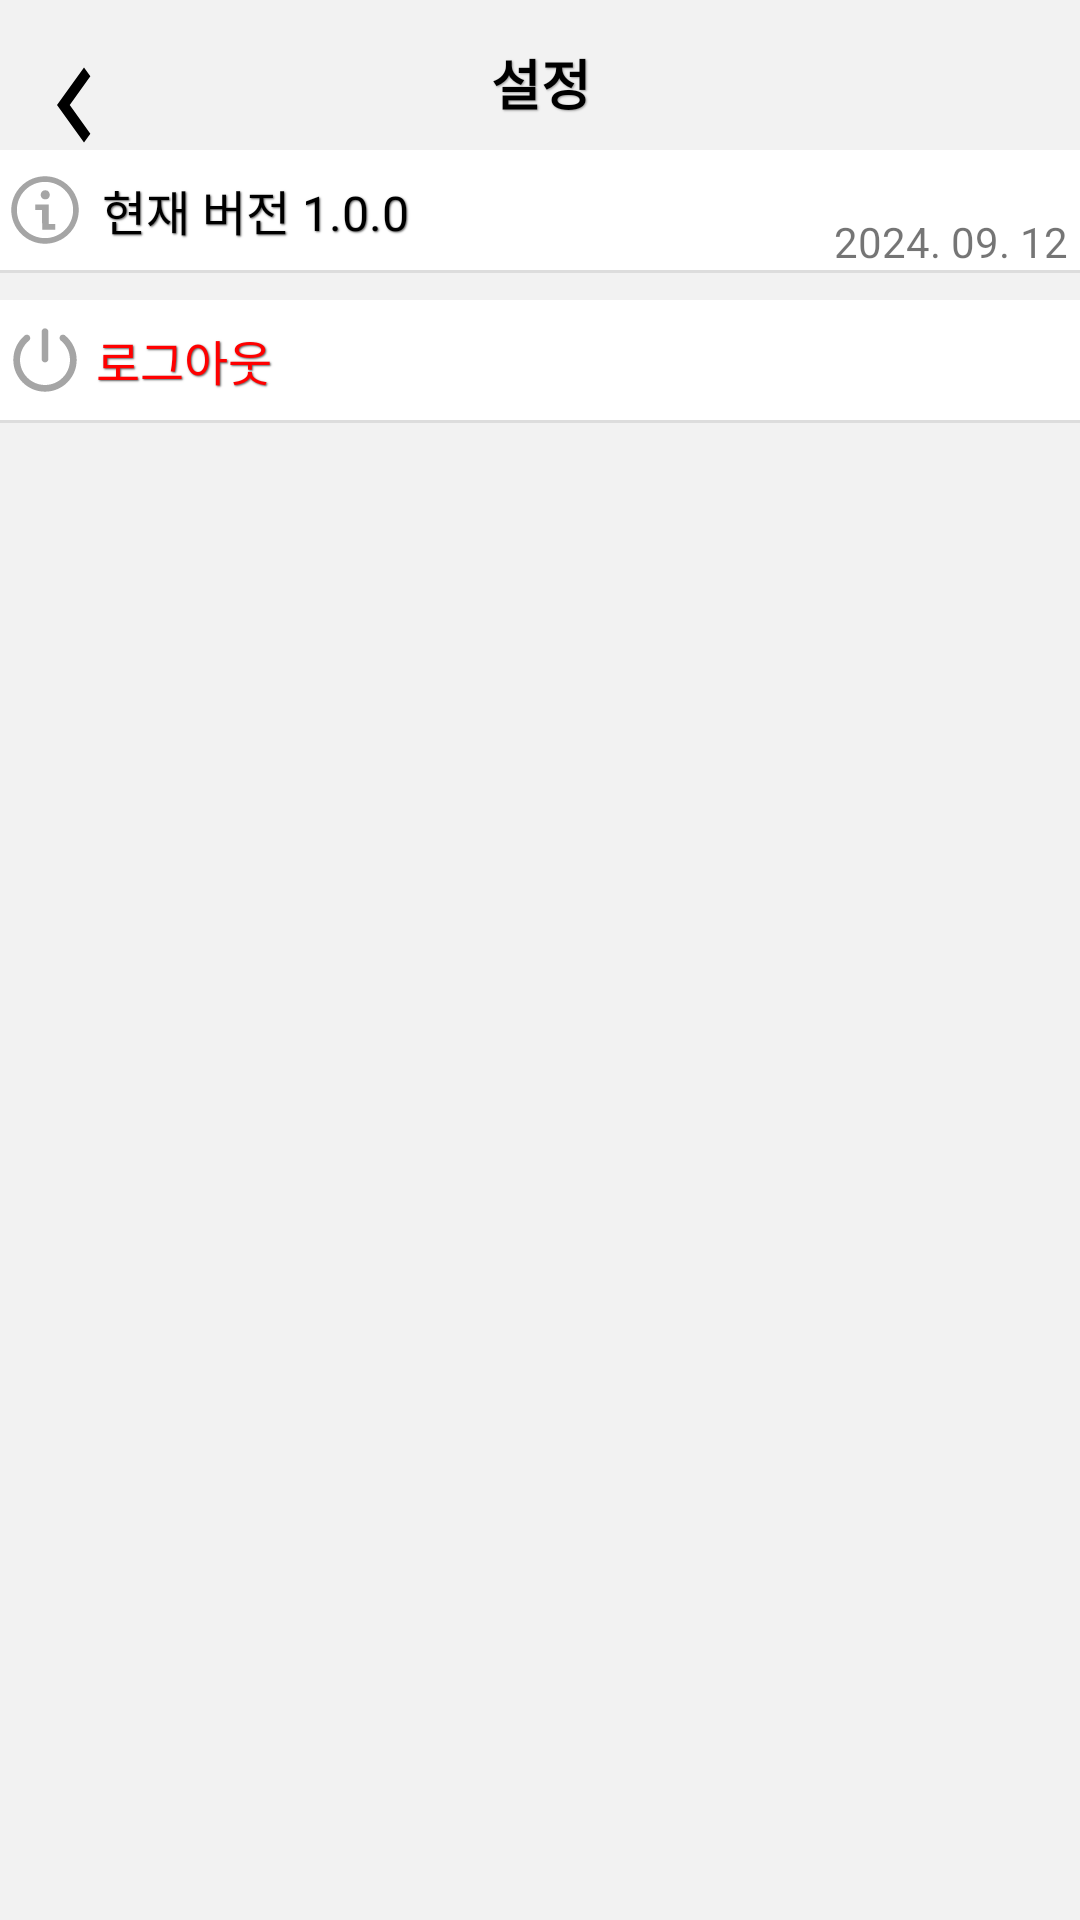

Named icons in this screenshot (1080 × 1920) and their bounding boxes, (x1, y1, x2, y2):
뒤로가기: (57, 68, 91, 142)
